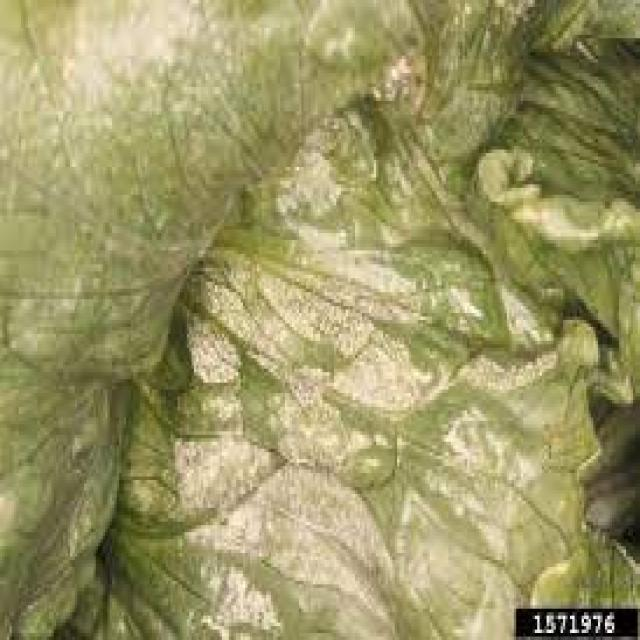Mature: (183, 256, 549, 591)
